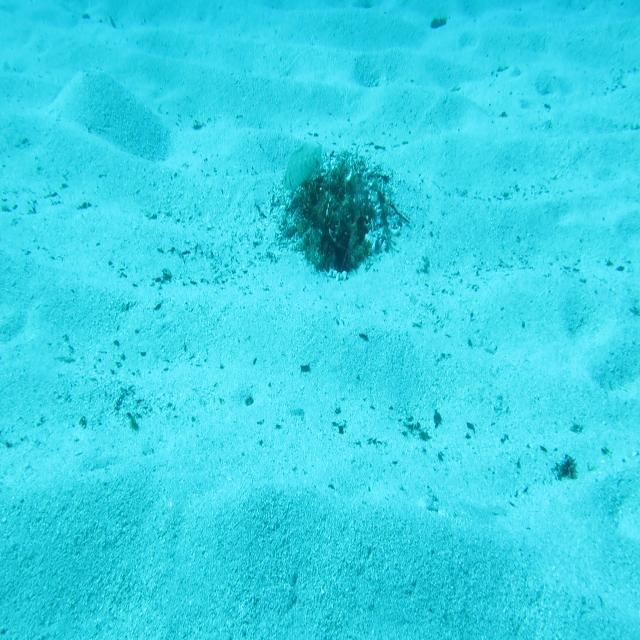NIP_IN: (278, 136, 329, 196)
core_nest: (322, 191, 357, 219)
nest: (287, 156, 395, 267)
